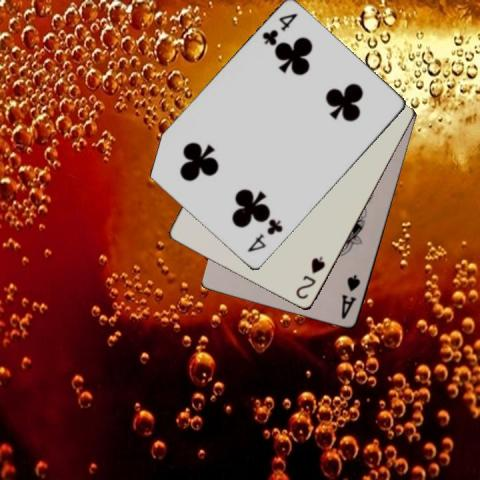2s: (292, 254, 326, 301)
4c: (244, 216, 284, 255), (259, 10, 299, 47)
As: (339, 272, 362, 321)
